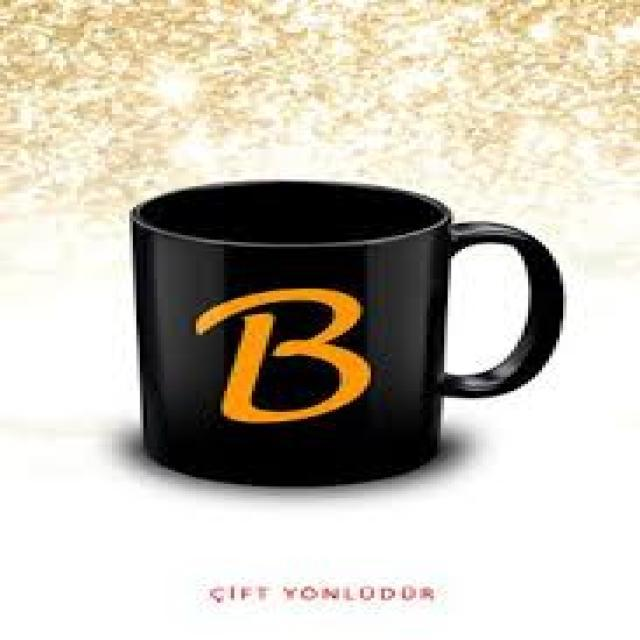taza: (128, 177, 565, 491)
